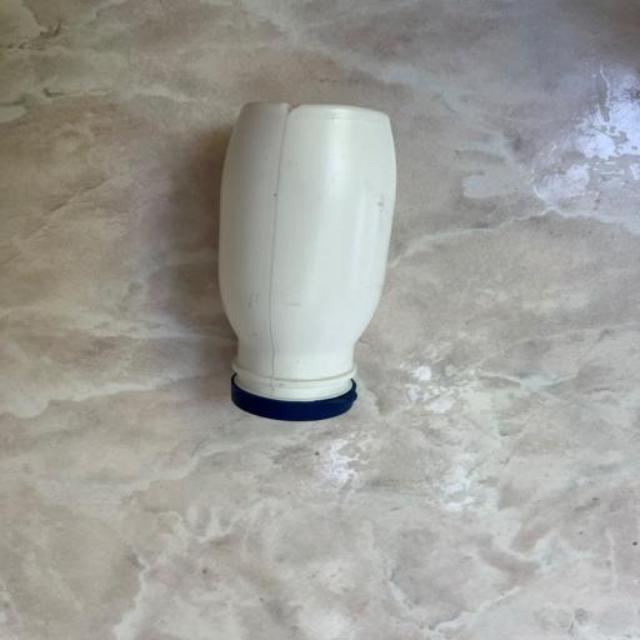HDPE: (136, 92, 463, 452)
